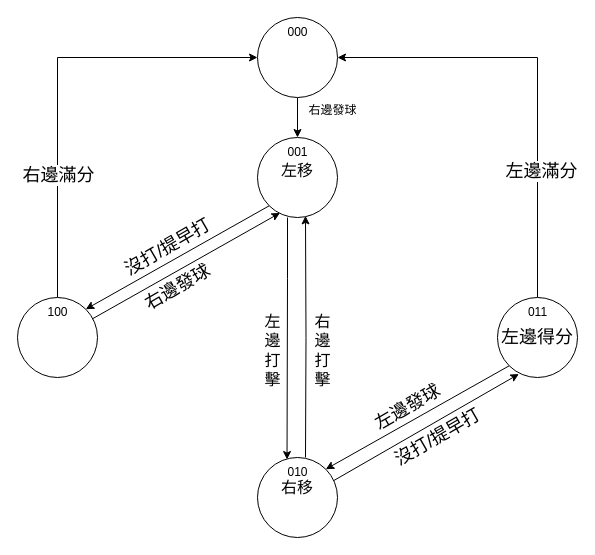
The diagram is 595 pixels wide and 555 high, and some of its shapes have lost their labels. The box of each missing label's shape, as (x1, y1, x2, y2) in pixels:
初始: (256, 16, 338, 98)
右邊得分: (16, 296, 98, 378)
